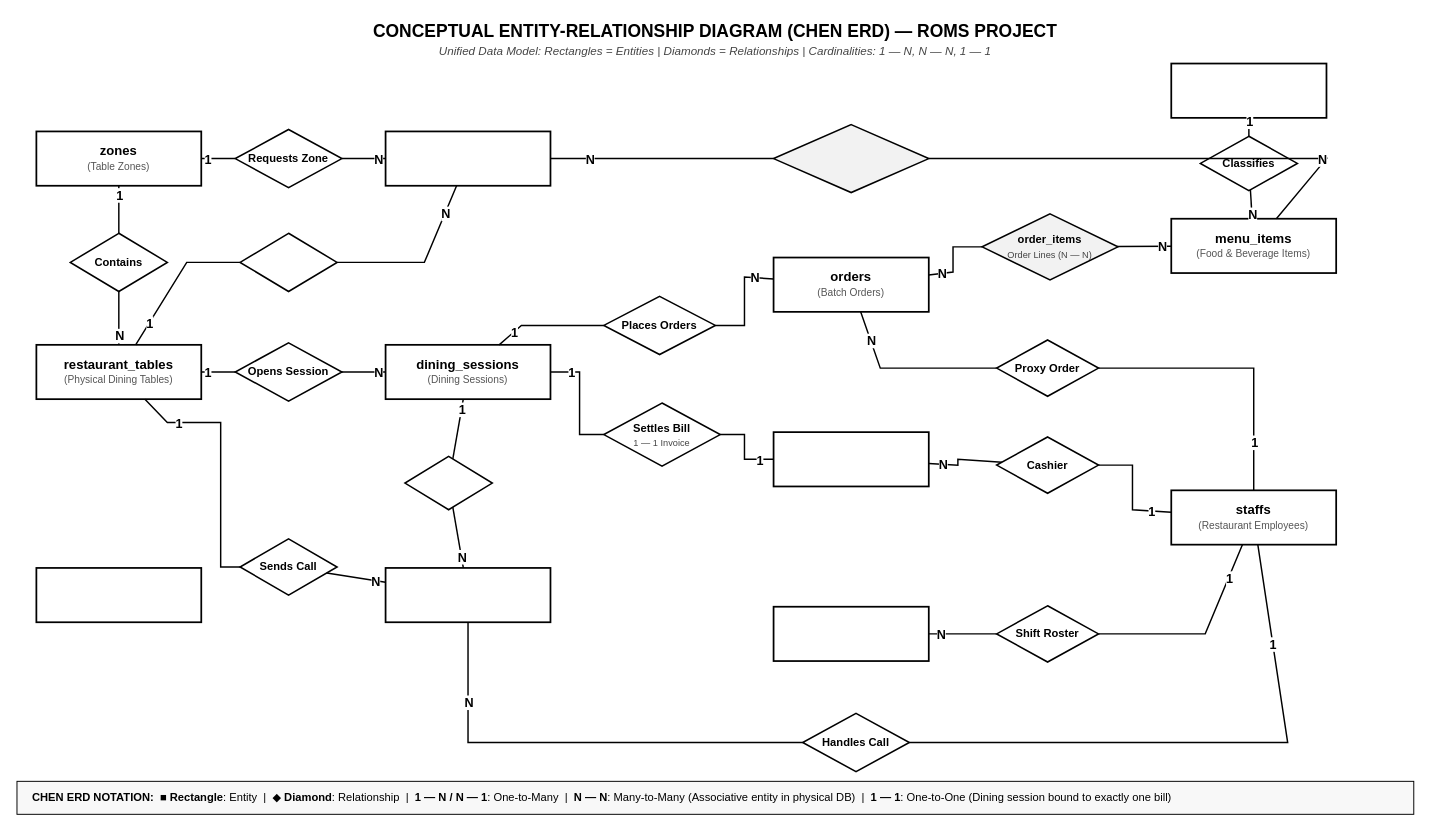
The diagram is 1431 pixels wide and 831 high, and some of its shapes have lost their labels. Here are the shapes that lost their labels. From the top down, the centre of each, then its label:
At (x=1248, y=90): "categories (Menu Categories)".
At (x=467, y=158): "reservations (Table Reservations)".
At (x=850, y=158): "reservation_items Pre-orders (N — N)".
At (x=288, y=262): "Holds Table".
At (x=850, y=459): "bills (Payment Invoices)".
At (x=448, y=482): "Binds Session".
At (x=118, y=595): "restaurant_profiles (Restaurant Profile - Singleton)".
At (x=467, y=595): "service_requests (Service Call Requests)".
At (x=850, y=633): "staff_schedules (Staff Shift Rostering)".
